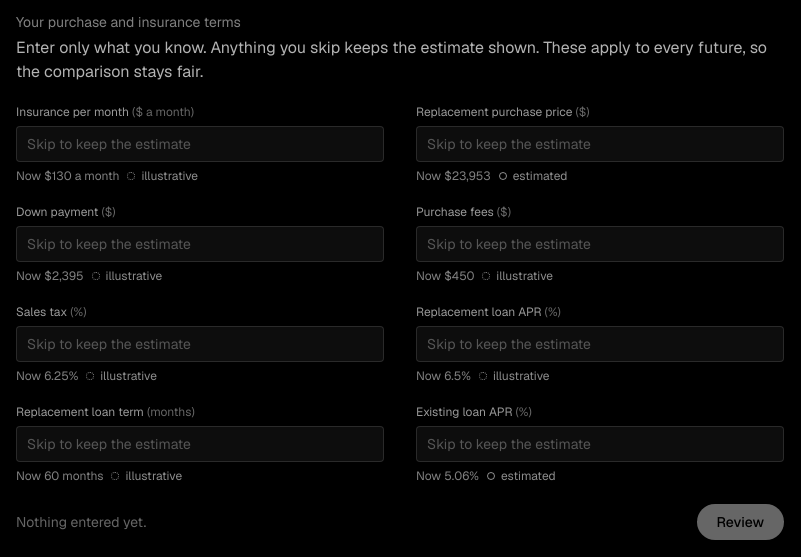
Test case: editing the purchase and insurance terms, through the real comparison › shows what the sim is really using now, with its own labels, and a down payment above the price in use is refused
This screenshot has width=801, height=557.
In the field labelled "Down payment ($)": (200,244) [16,226,384,262], type "9999999"
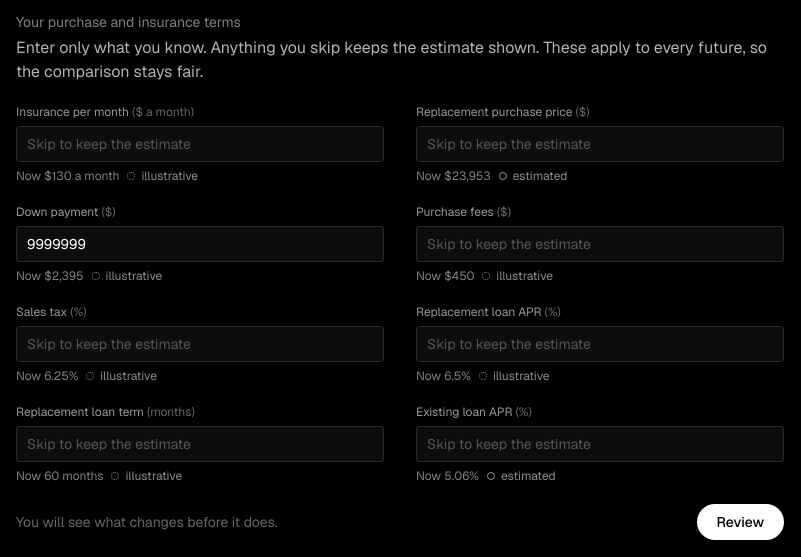
Click the button "Review": (740,522) [696,504,784,540]
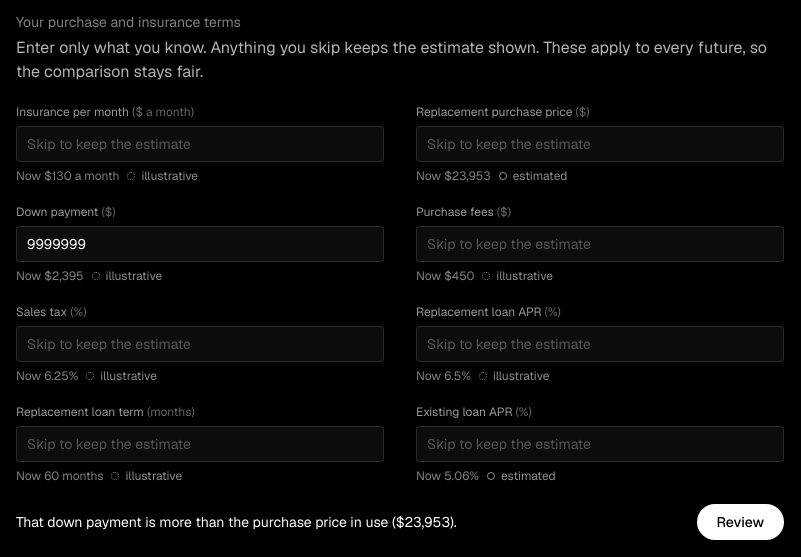
Expected: the message with test id "terms-problem" shows "more than the purchase price in use", [16,513,457,531]
